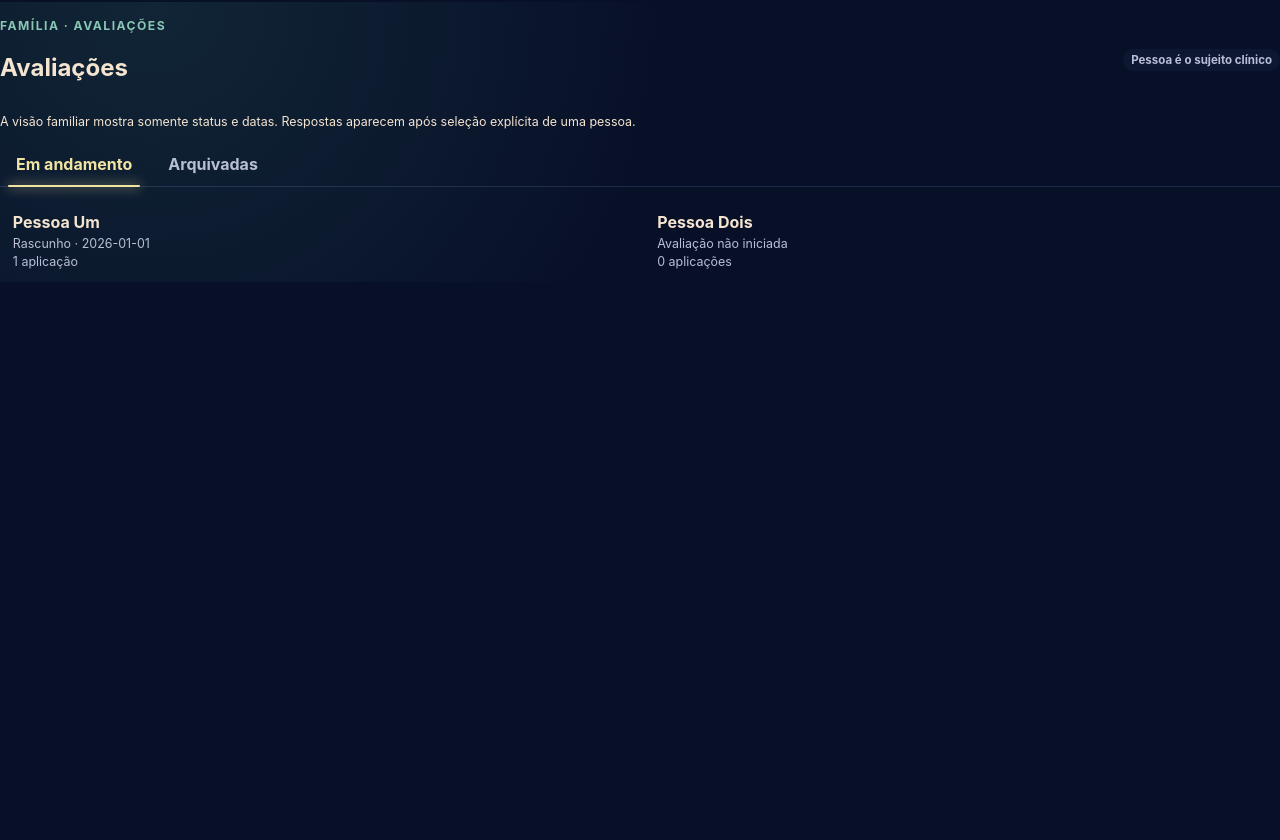
Test: interface de avaliações na família › renderiza pressão por visita, cintura com critério e revisão legível
Click the button "Pessoa Um Rascunho · 2026-01-01 1 aplicação".
click(56, 222)  # box left=0, top=200, right=636, bottom=282
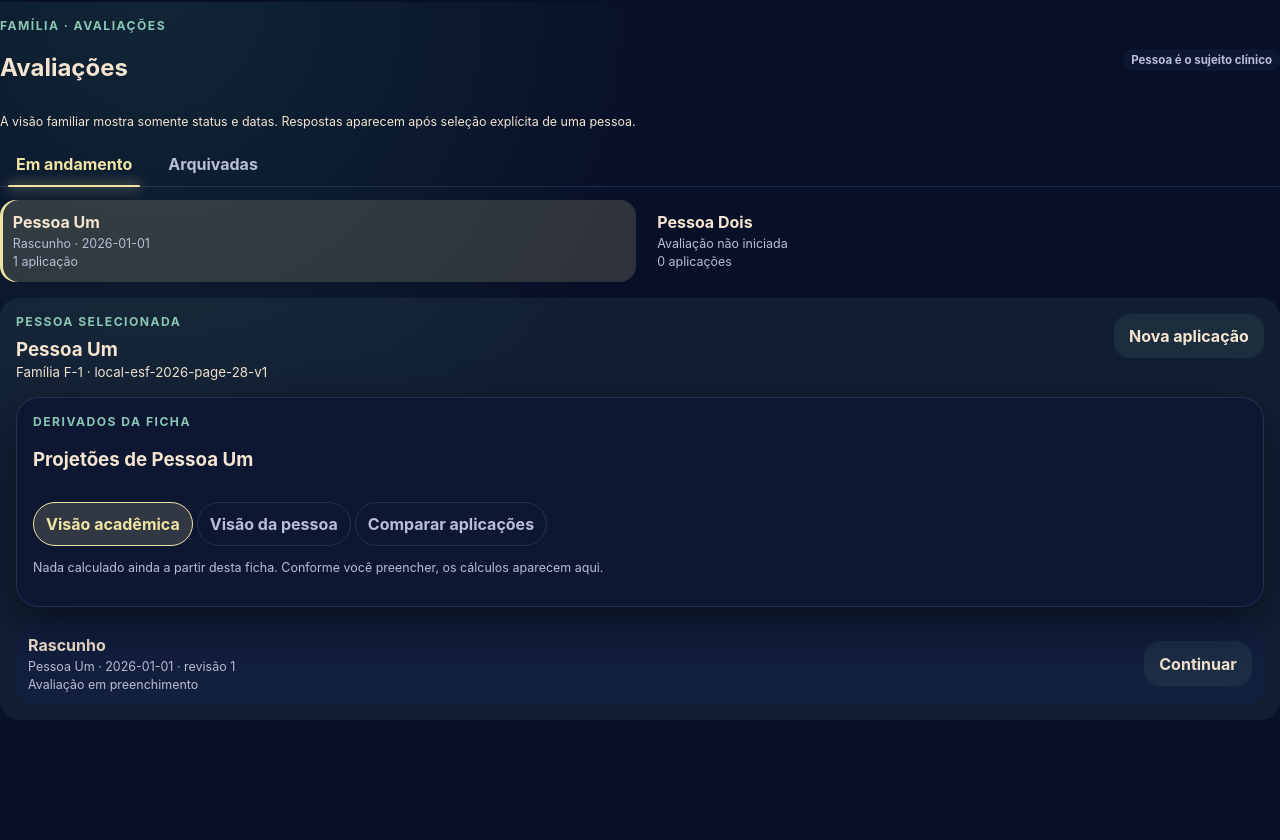
Click the button "Continuar".
click(1198, 664)  # box left=1144, top=641, right=1252, bottom=686
(page scrolled)
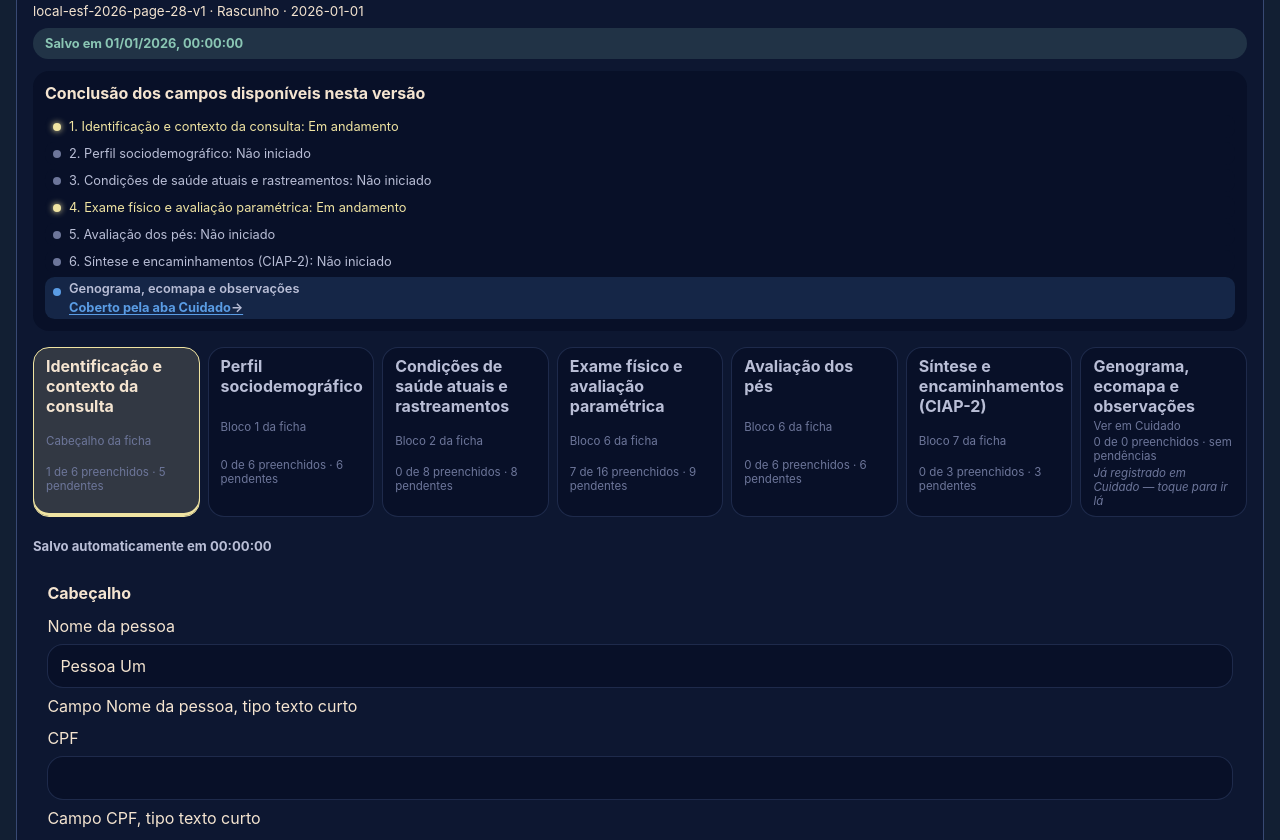
Click the tab "Bloco 6".
click(640, 432)  # box left=557, top=347, right=723, bottom=517
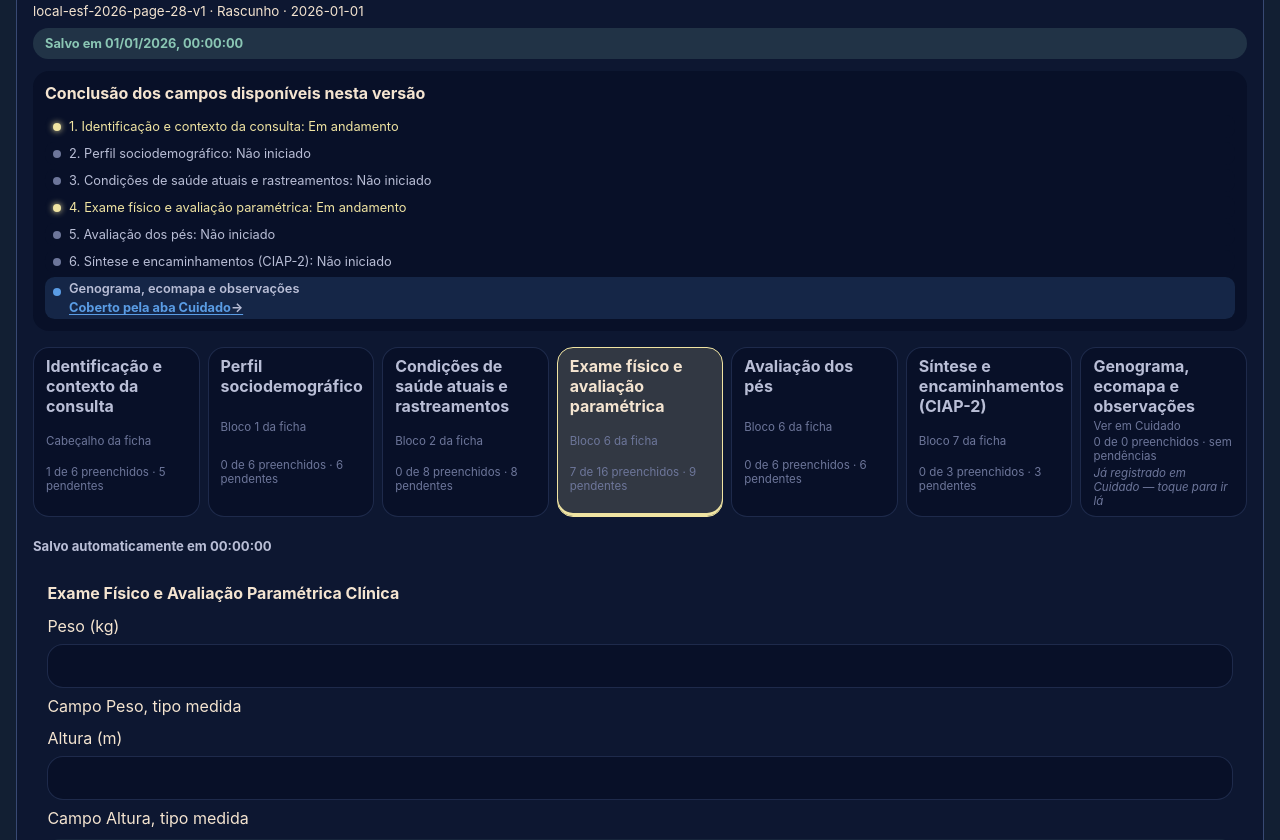
Expected: the button "Coberto pela aba Cuidado →" is shown, left=69, top=300, right=243, bottom=315
Click the tab "Genograma, ecomapa e observações".
click(1164, 432)  # box left=1080, top=347, right=1247, bottom=517
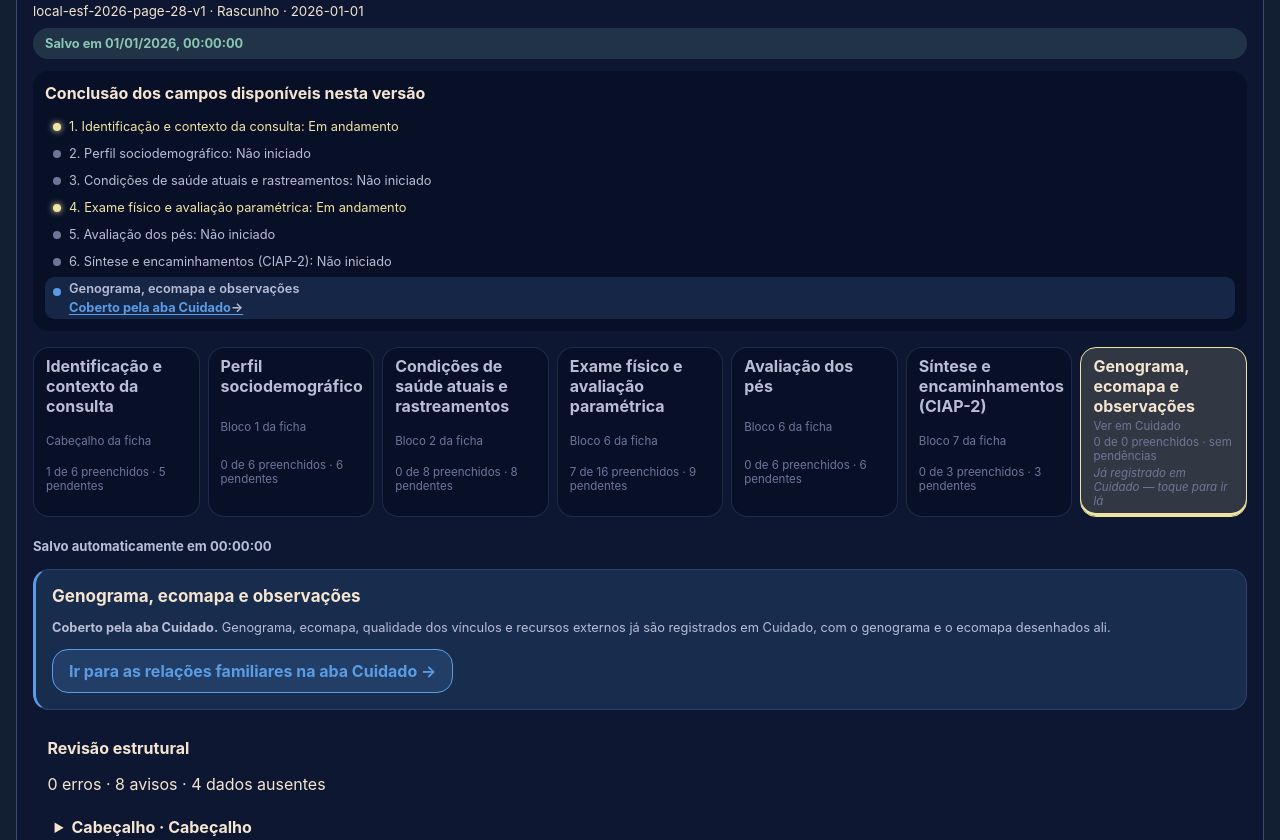
Expected: the text "já são registrados em Cuidado" is shown, left=222, top=620, right=1111, bottom=635
Expected: the button "Ir para as relações familiares na aba Cuidado →" is shown, left=52, top=649, right=453, bottom=693
